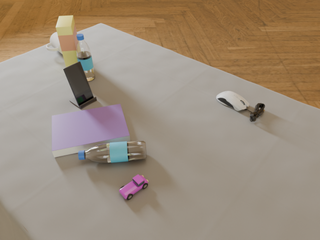book: (52, 104, 130, 157)
bottle: (78, 140, 146, 163), (76, 34, 95, 81)
box: (56, 16, 78, 67)
cup: (46, 32, 62, 54)
mouse: (216, 91, 249, 111)
phone: (63, 62, 94, 106)
toy_car: (119, 175, 148, 200)
